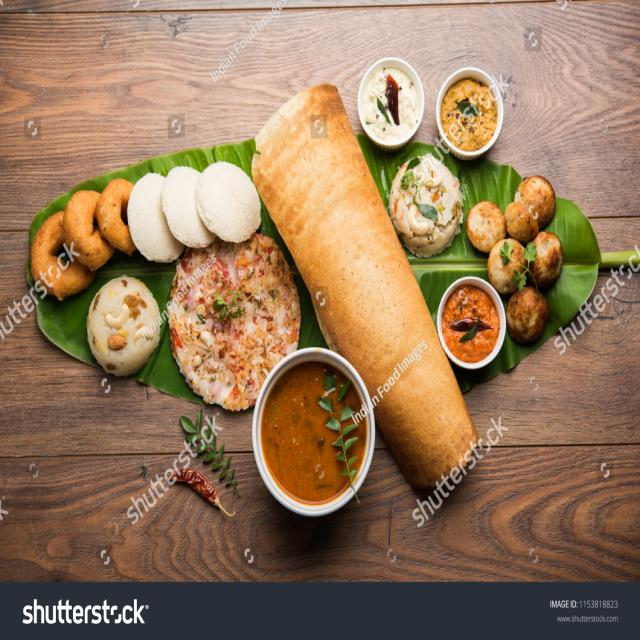DOSA: (249, 77, 485, 499)
IDLI: (126, 160, 258, 268)
